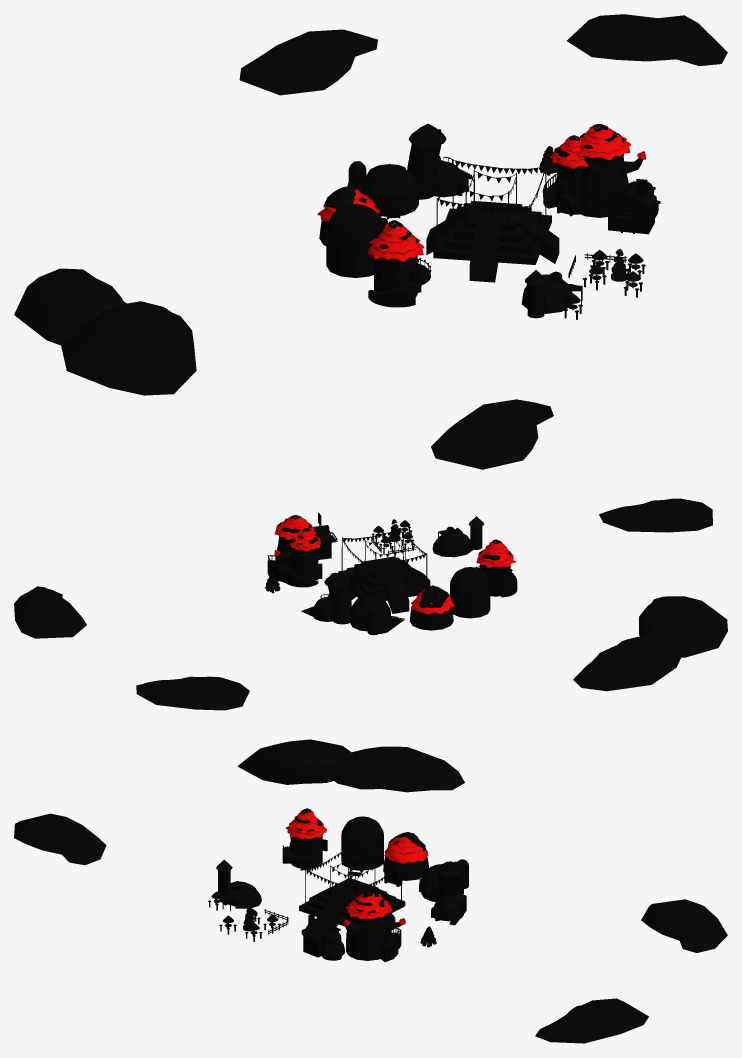
Rendered from Neighborhood_NothingHappeningHereSquareLocked.glb.
3 renders of one model, top to bottom at view 1: azimuth 30°, elevation 25°; view 2: azimuth 150°, elevation 25°; view 3: azimuth 270°, elevation 25°, orthographic. The views are drawn at different scales.
Parts seen in each view (by area): view 1: Neighborhood_NothingHappeningHereSquareLocked_pasted__Nothin; view 2: Neighborhood_NothingHappeningHereSquareLocked_pasted__Nothin; view 3: Neighborhood_NothingHappeningHereSquareLocked_pasted__Nothin.
Part boxes in pixels (x1,y1,x2,y2): Neighborhood_NothingHappeningHereSquareLocked_pasted__Nothin: (14,14,727,469); Neighborhood_NothingHappeningHereSquareLocked_pasted__Nothin: (14,498,727,710); Neighborhood_NothingHappeningHereSquareLocked_pasted__Nothin: (14,739,727,1043).
Size of the model in its own units: 60.34 by 6.54 by 61.72.
